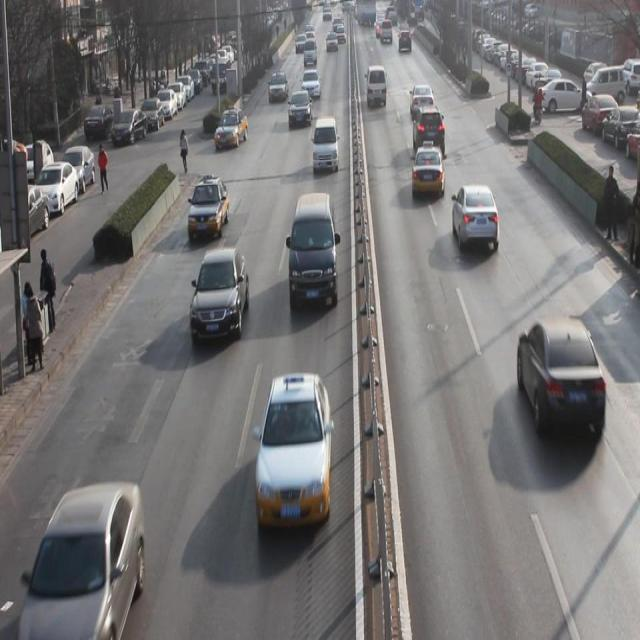car: (23, 488, 148, 640), (255, 375, 333, 526), (517, 312, 606, 438), (190, 248, 248, 341), (451, 183, 499, 251), (188, 177, 230, 240), (411, 144, 446, 199), (411, 103, 445, 155), (215, 107, 248, 150), (288, 89, 313, 128), (410, 81, 434, 116), (300, 69, 321, 98), (268, 71, 288, 101)
truck: (288, 192, 340, 311), (312, 117, 340, 175), (365, 61, 388, 110)
